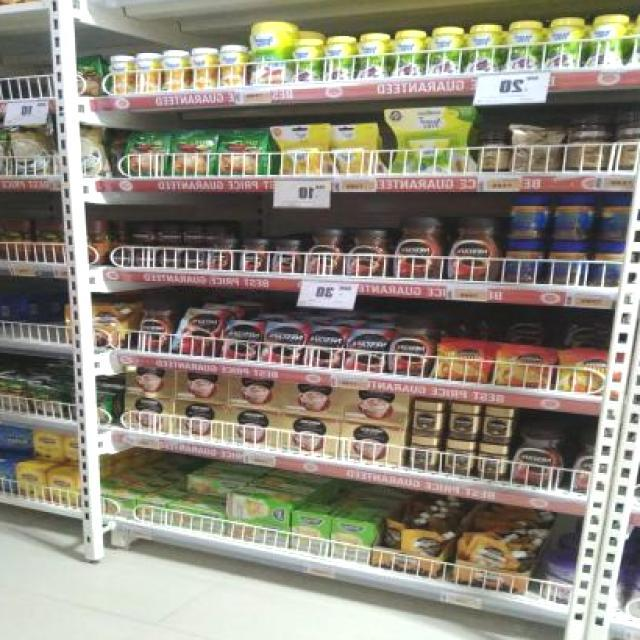Coffee: (448, 214, 504, 280), (396, 215, 442, 278), (561, 352, 625, 394), (392, 312, 434, 374), (514, 425, 558, 483), (177, 309, 223, 354), (348, 230, 390, 276), (497, 351, 552, 386), (138, 303, 173, 353), (440, 346, 490, 380), (306, 230, 343, 274), (350, 332, 388, 370), (308, 330, 343, 368), (224, 324, 261, 358), (268, 326, 302, 362), (272, 240, 300, 272), (484, 410, 511, 442), (414, 404, 442, 434), (446, 442, 474, 472), (478, 447, 506, 477), (451, 406, 476, 438), (410, 440, 438, 468), (240, 240, 266, 270), (212, 239, 234, 270), (131, 226, 155, 242), (158, 226, 178, 245), (157, 252, 180, 268), (184, 252, 206, 268), (184, 226, 203, 244), (112, 250, 132, 266), (136, 250, 154, 267), (207, 226, 230, 238)
